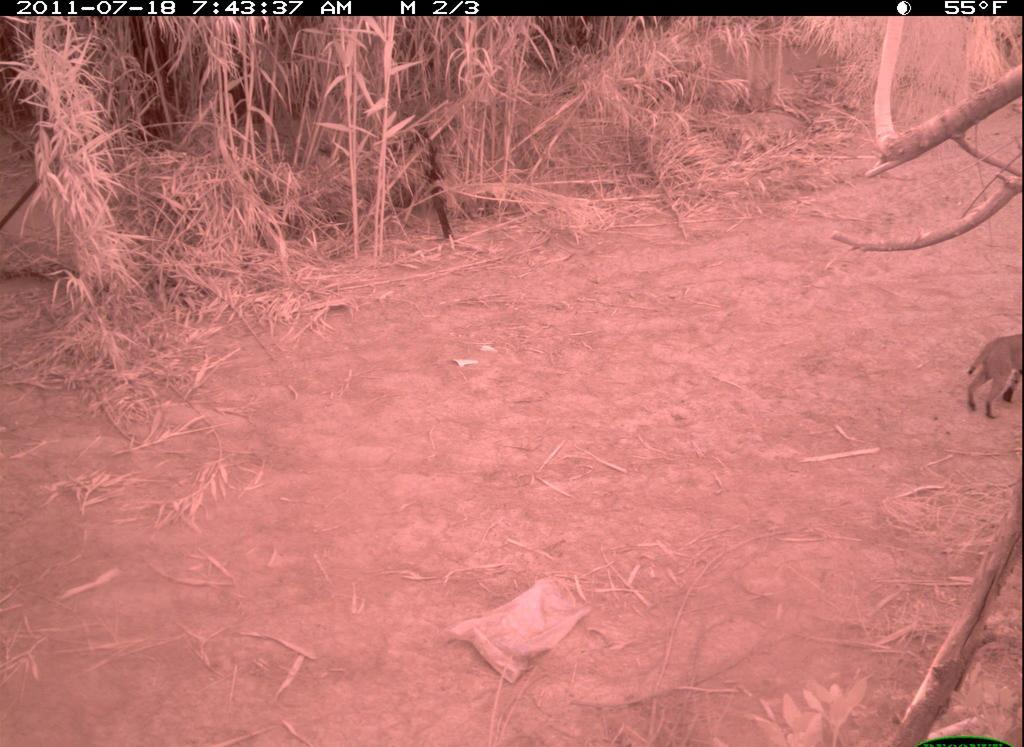bobcat: (961, 314, 1019, 432)
